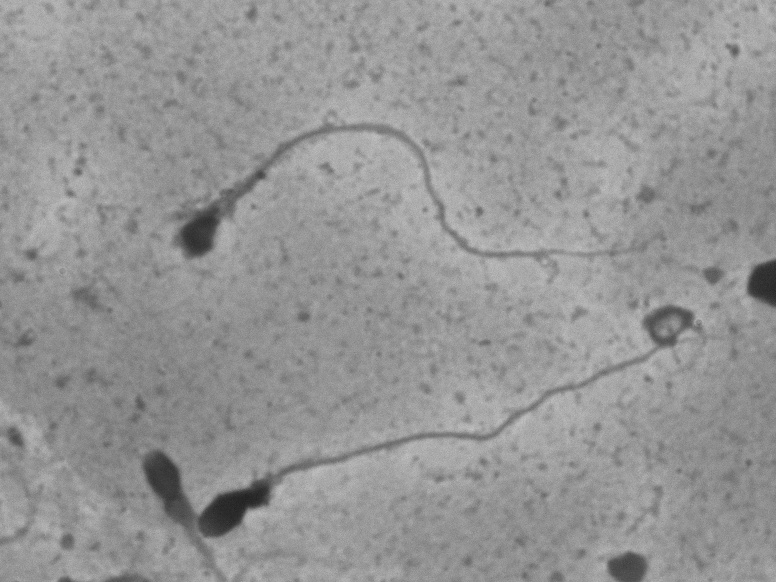Abnormal: (117, 55, 627, 297), (198, 394, 653, 549)
